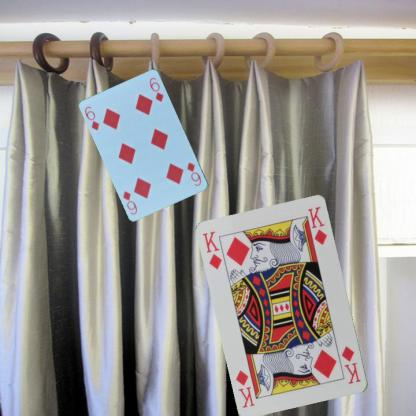6d: (83, 103, 101, 132), (184, 160, 203, 187)
Kd: (200, 228, 224, 271), (339, 344, 362, 386)
